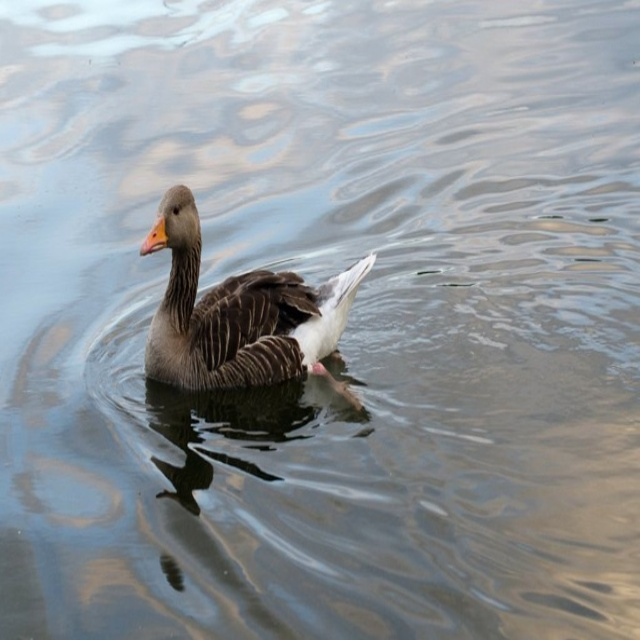Goose: (139, 184, 377, 412)
